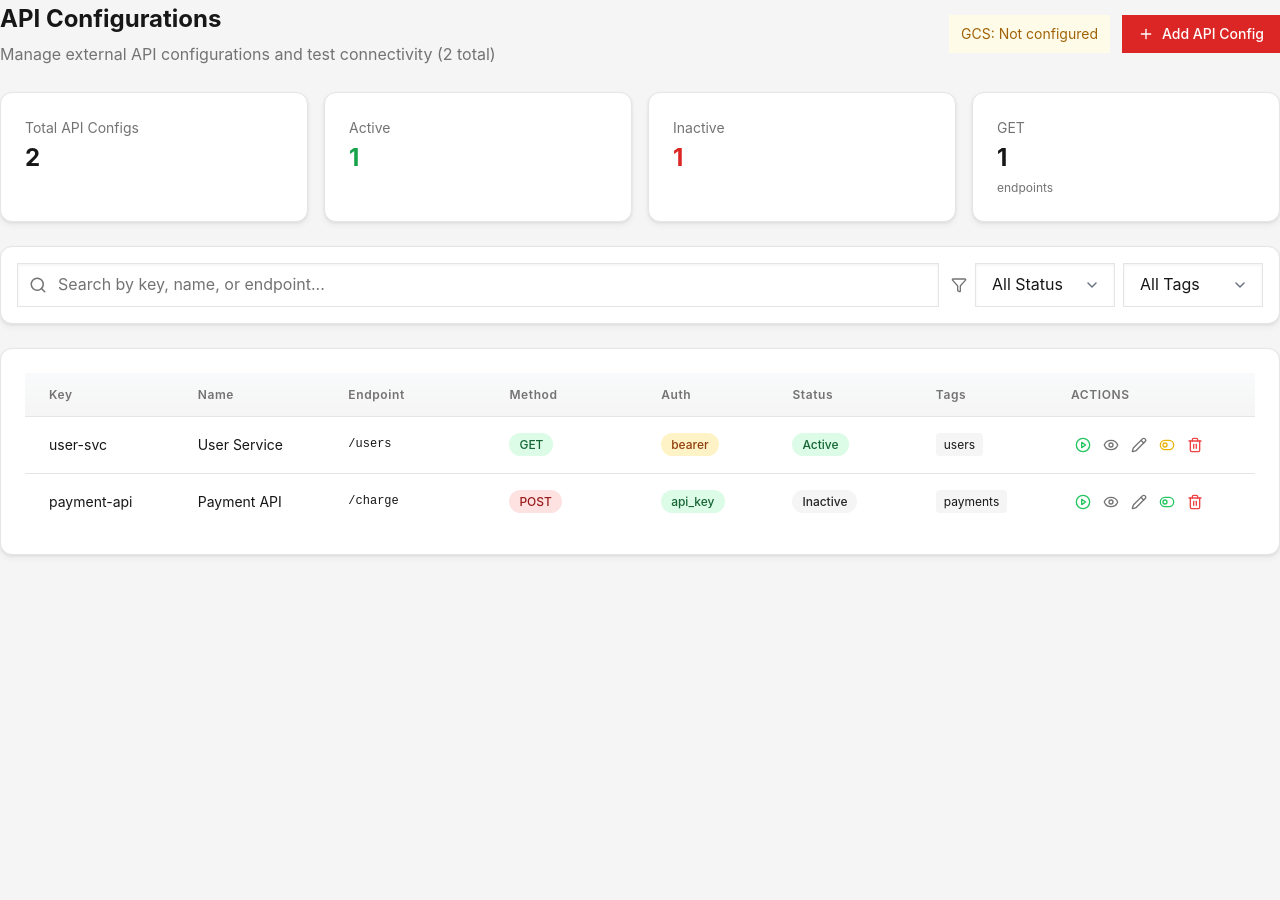
Test case: ApiConfigsManagement › renders cancel button in modal
Expected: the text "User Service" is shown, [174,416,324,473]
Click the button "Add API Config" at {"x": 1201, "y": 34}, box [1122,15,1279,53]
(page scrolled)
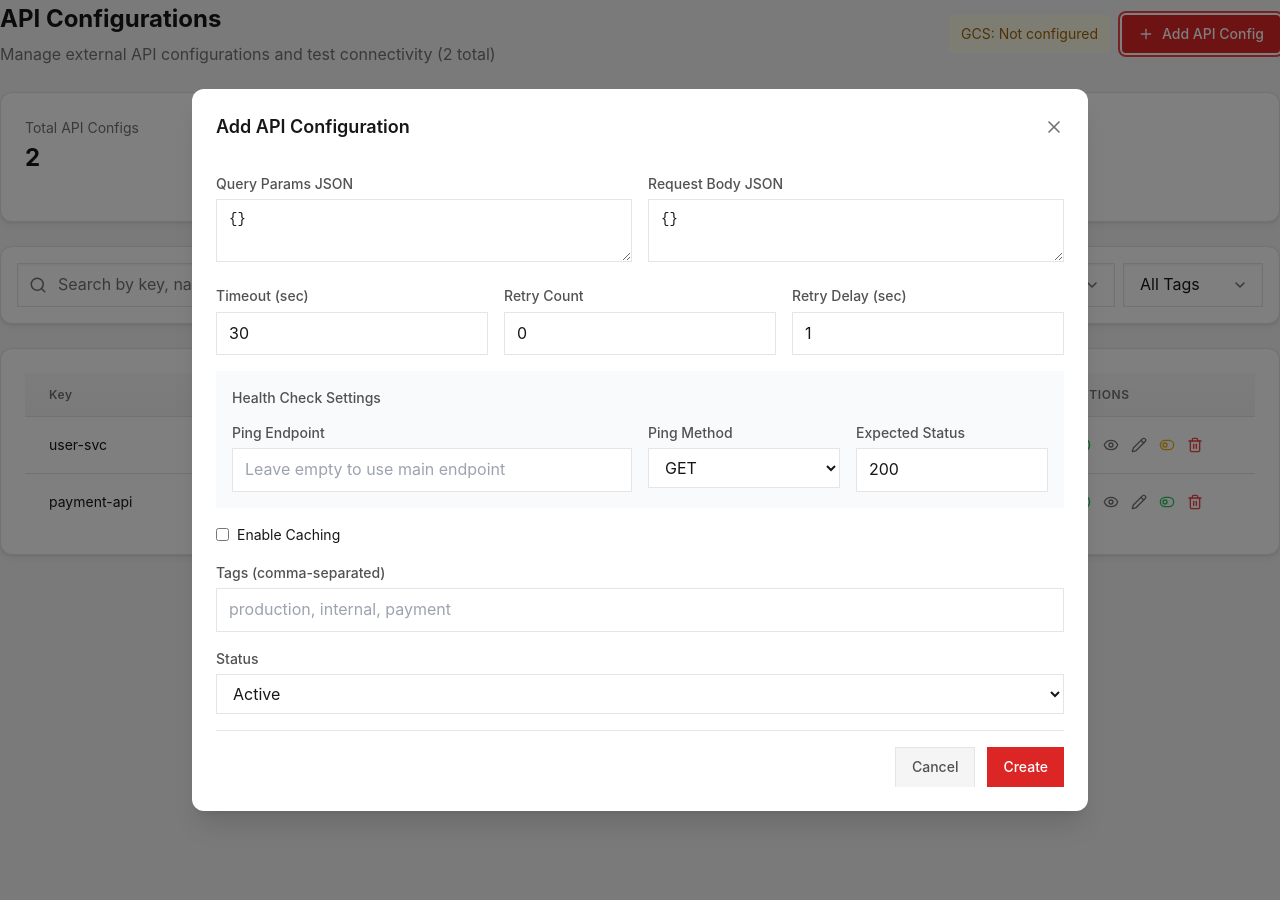
Now the button "Cancel" is shown, box [895,747,975,787]
